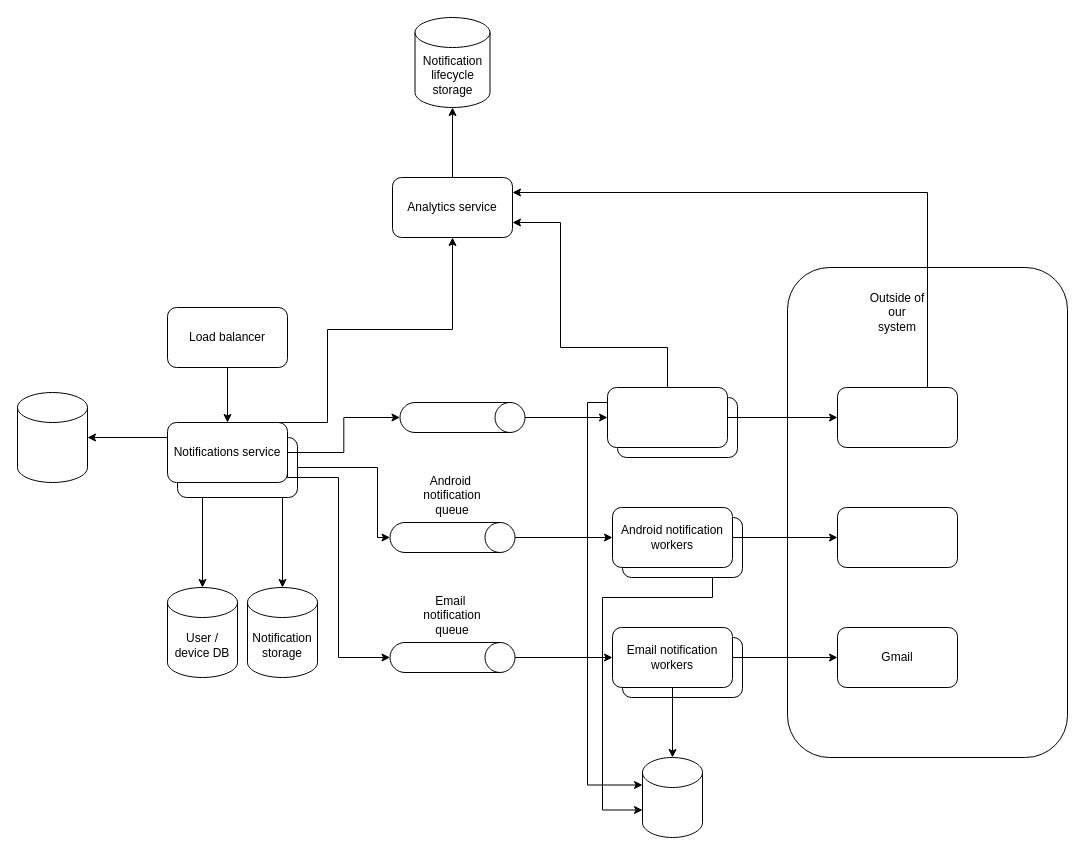
Image size: 1085x855. Some labels were removed from this diagram. The box of each missing label's shape, as (x1, y1, x2, y2) in pixels:
Apple: (836, 386, 958, 448)
Google: (836, 506, 958, 568)
IOS notification queue: (399, 402, 525, 432)
IOS notification workers: (606, 386, 728, 448)
Template storage: (642, 756, 702, 838)
User cache: (16, 392, 88, 482)
